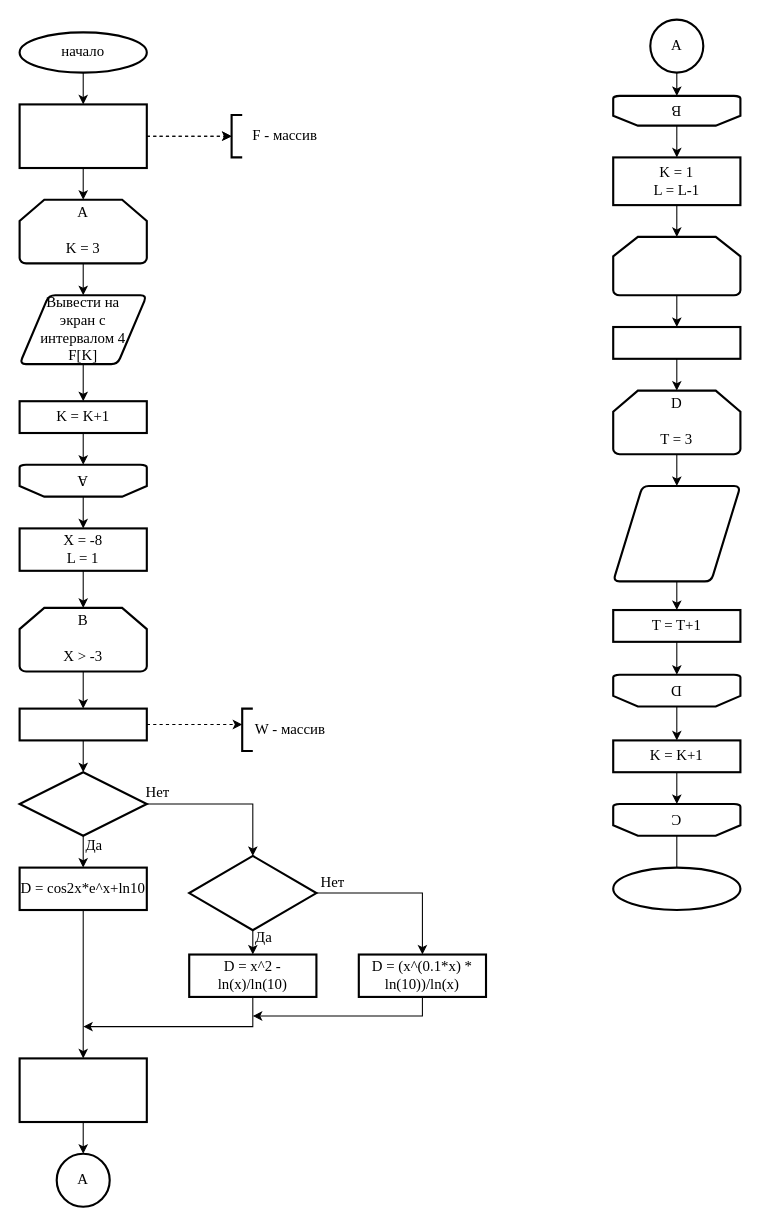
Some shapes in this 759 by 1225 pixel diagram are drawn without their labels. Each missing label, with the box of its shape:
C K > L: (612, 235, 741, 296)
F[1] = x F[2] = y K = 1: (18, 103, 147, 169)
T = 1: (612, 325, 741, 359)
W[L,1] = X: (18, 707, 147, 741)
W[L,2] = D L = L+1 X = X+0,1: (18, 1057, 147, 1123)
X < -6: (18, 771, 147, 836)
X >= -6 и X < -5: (188, 854, 317, 931)
Вывести на экран F[K,T] с округлением до 2-ух символов после запятой: (612, 484, 741, 582)
конец: (612, 866, 741, 911)
